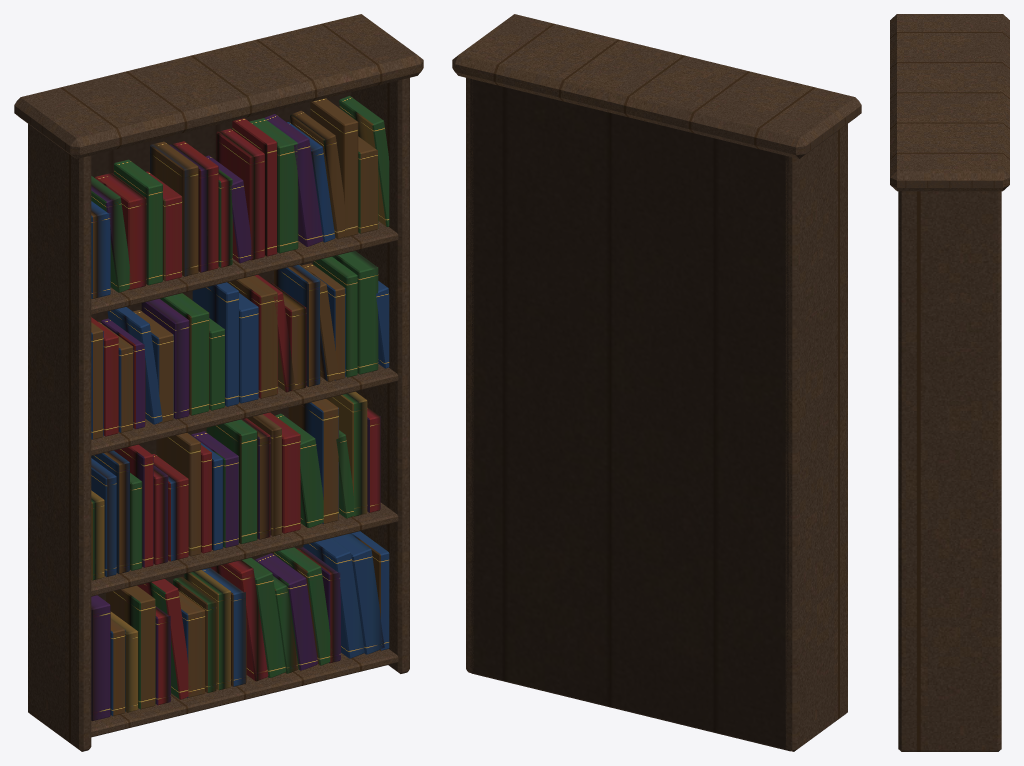
File: bookshelf.glb
3 renders of one model, left to right at view 1: azimuth 30°, elevation 25°; view 2: azimuth 150°, elevation 25°; view 3: azimuth 270°, elevation 25°, orthographic. The views are drawn at different scales.
Parts seen in each view (by area): view 1: bookshelf; view 2: bookshelf; view 3: bookshelf.
Boxes of the visible parts, x1,y1,x2,y2 form: bookshelf: (14,14,423,751); bookshelf: (452,14,861,751); bookshelf: (890,14,1009,751).
Size of the model in its own units: 1.42 by 2.37 by 0.44.
1 material, 1 textured.
